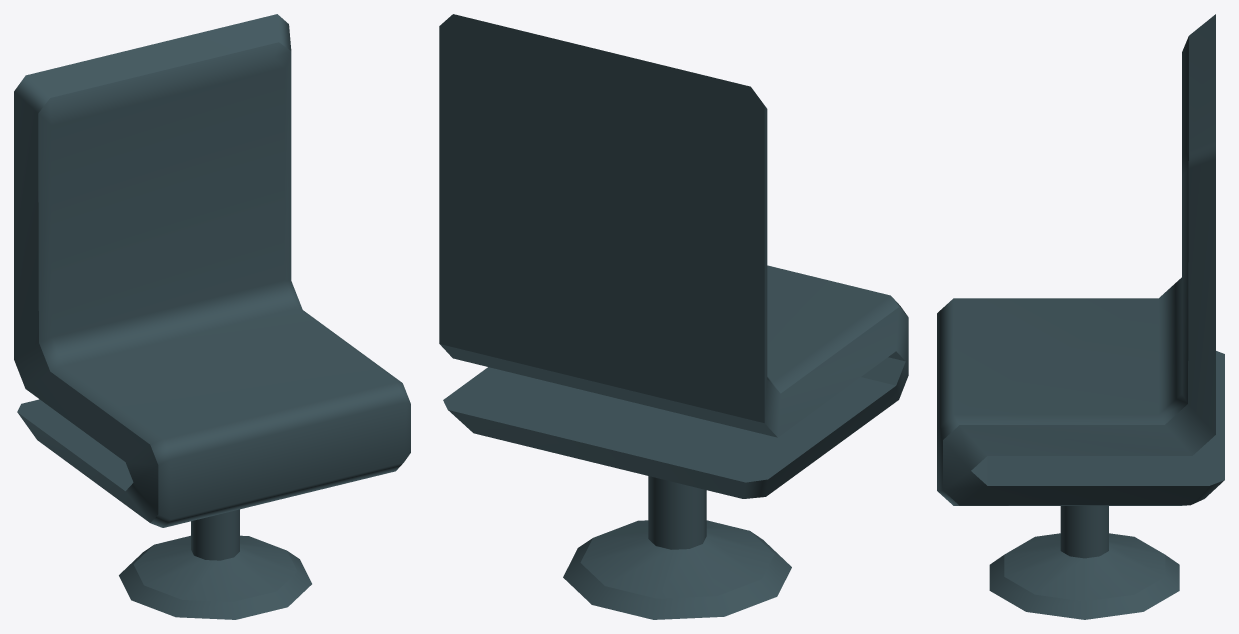
File: Chair01_mesh.fbx
The picture shows the model from 3 angles, left to right: view 1: azimuth 30°, elevation 25°; view 2: azimuth 150°, elevation 25°; view 3: azimuth 270°, elevation 25°; orthographic projection. The views are drawn at different scales.
Parts seen in each view (by area): view 1: Chair01_mesh; view 2: Chair01_mesh; view 3: Chair01_mesh.
Part boxes in pixels (x1,y1,x2,y2): Chair01_mesh: [14, 14, 410, 619]; Chair01_mesh: [439, 14, 908, 619]; Chair01_mesh: [937, 14, 1224, 619].
Size of the model in its own units: 8342 by 7372 by 14157.
